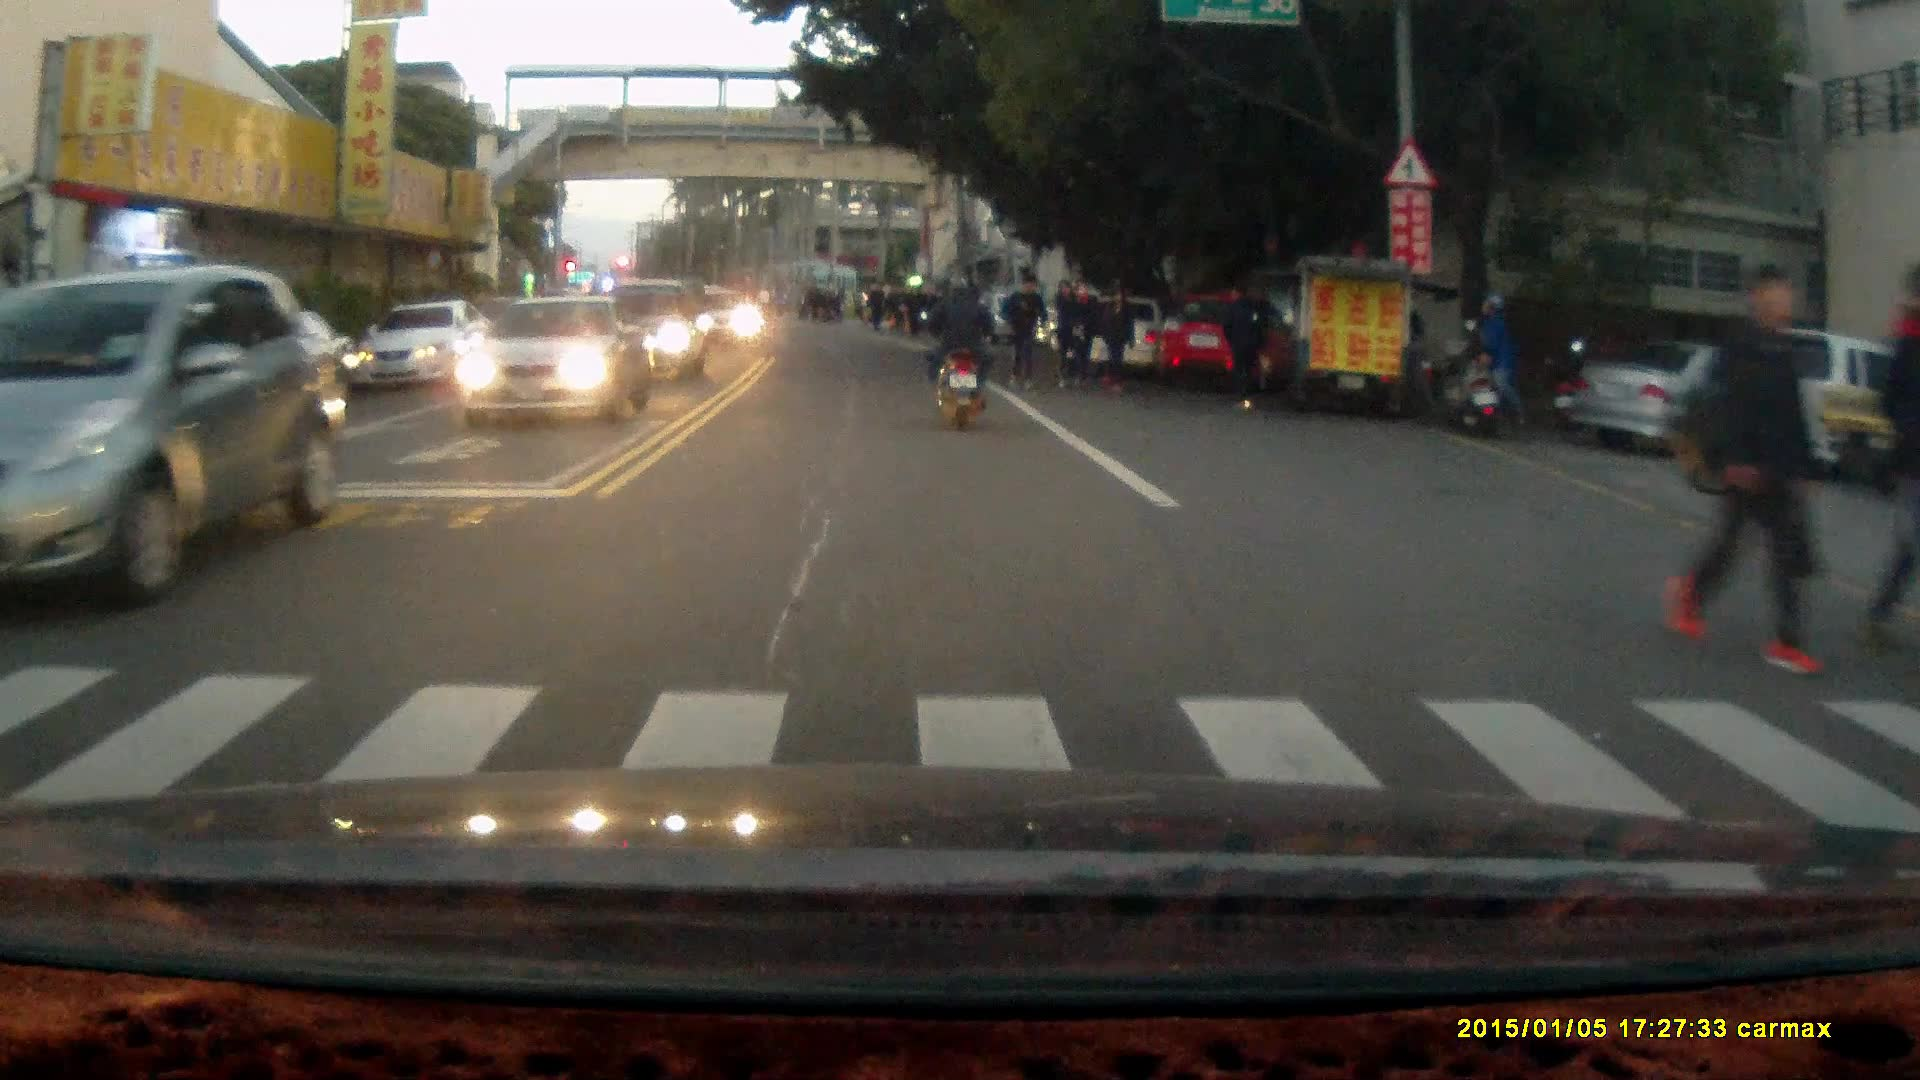pedestrian: (1669, 258, 1830, 677), (1862, 258, 1920, 658), (1215, 273, 1271, 415), (1472, 292, 1526, 432), (999, 268, 1048, 391), (1097, 282, 1135, 393), (1052, 276, 1087, 396)
rider: (919, 272, 1000, 433)
vehicle: (1, 266, 348, 614), (1559, 330, 1867, 468), (454, 296, 649, 427), (1155, 294, 1302, 396), (599, 279, 714, 383)
